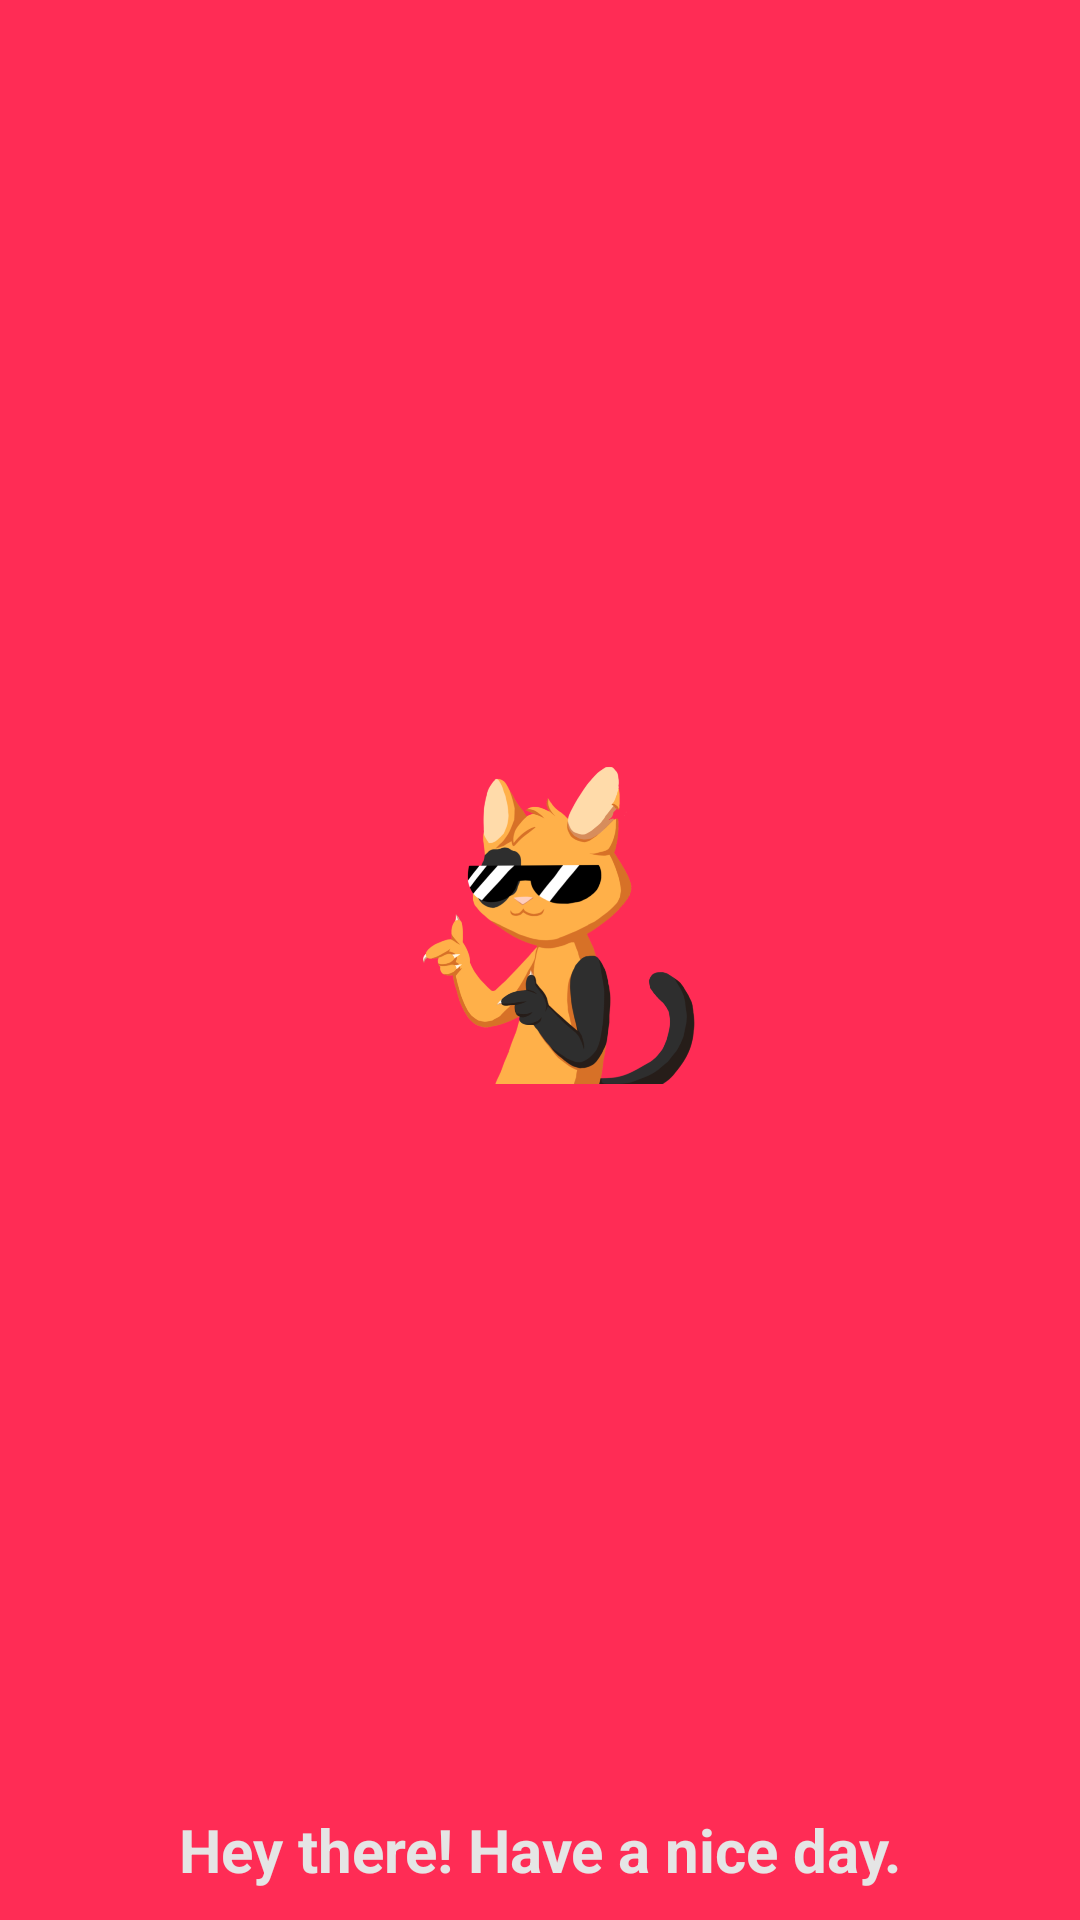

Locate icon controls on the screen. Image size 1080w x 1920h, boxes as (x1, y1, x2, y2).
cat gif: (423, 767, 695, 1084)
